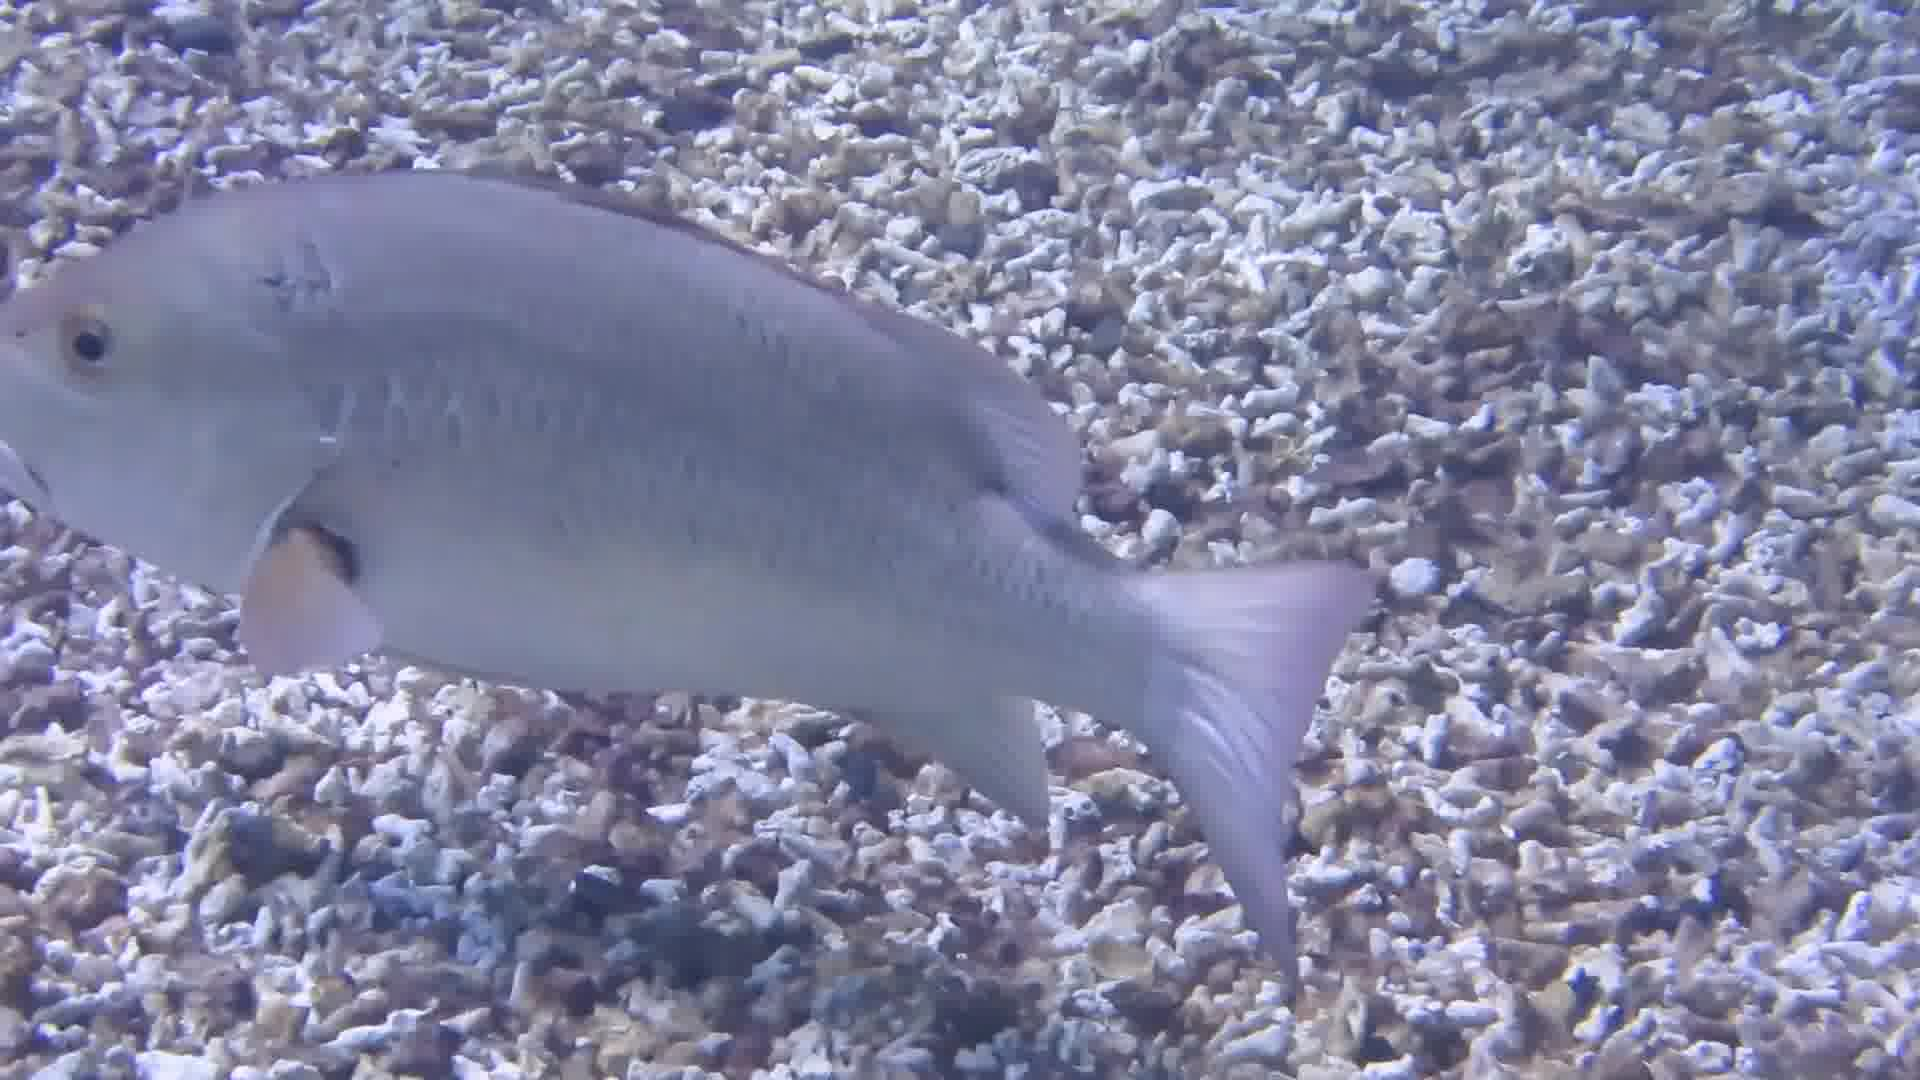Lutjanus argentimaculatus: (1, 142, 1335, 798)
